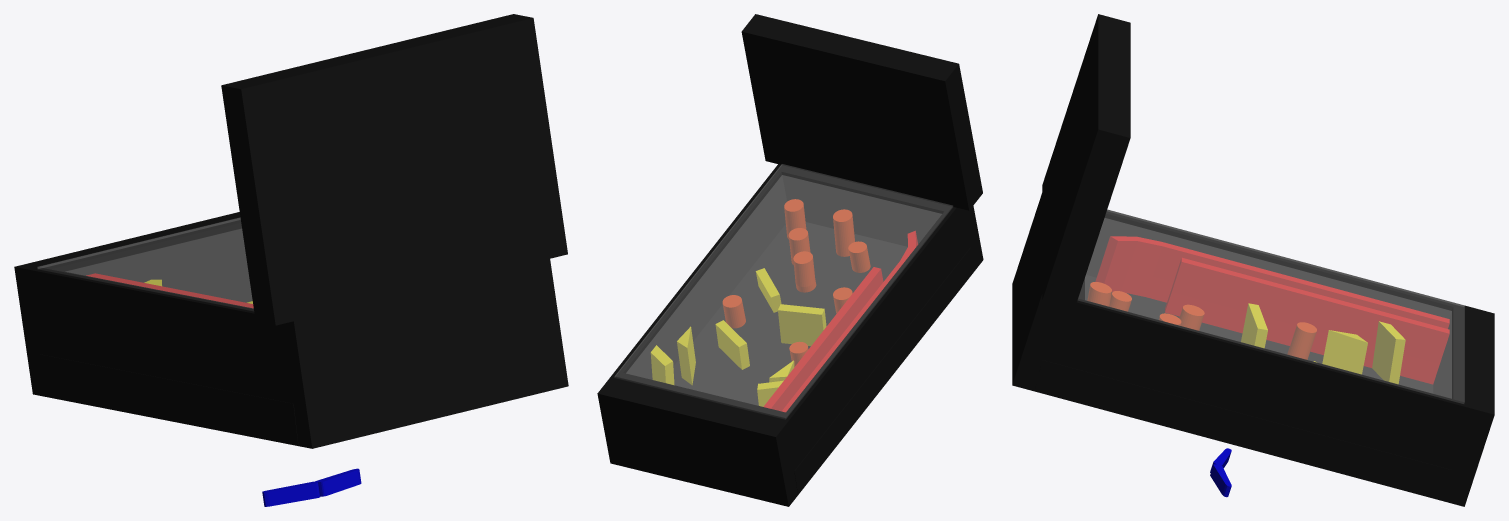
The model's file is pinballTable2.obj.
The picture shows the model from 3 angles, left to right: view 1: azimuth 30°, elevation 25°; view 2: azimuth 150°, elevation 25°; view 3: azimuth 270°, elevation 25°; orthographic projection. The views are drawn at different scales.
Parts seen in each view (by area): view 1: Cube, Cube.001, Flipper.L, Flipper.R; view 2: Cube, Cube.001; view 3: Cube, Cube.001.
Part boxes in pixels (bbox=[...]): Cube: bbox=[14, 14, 568, 448]; Cube.001: bbox=[37, 218, 253, 310]; Flipper.L: bbox=[262, 481, 320, 506]; Flipper.R: bbox=[316, 468, 361, 496]; Cube: bbox=[597, 14, 983, 506]; Cube.001: bbox=[615, 164, 952, 418]; Cube: bbox=[1012, 14, 1494, 506]; Cube.001: bbox=[1078, 209, 1464, 403].
Bounding box in the file's own units: 25.88 × 42.37 × 45.7.
